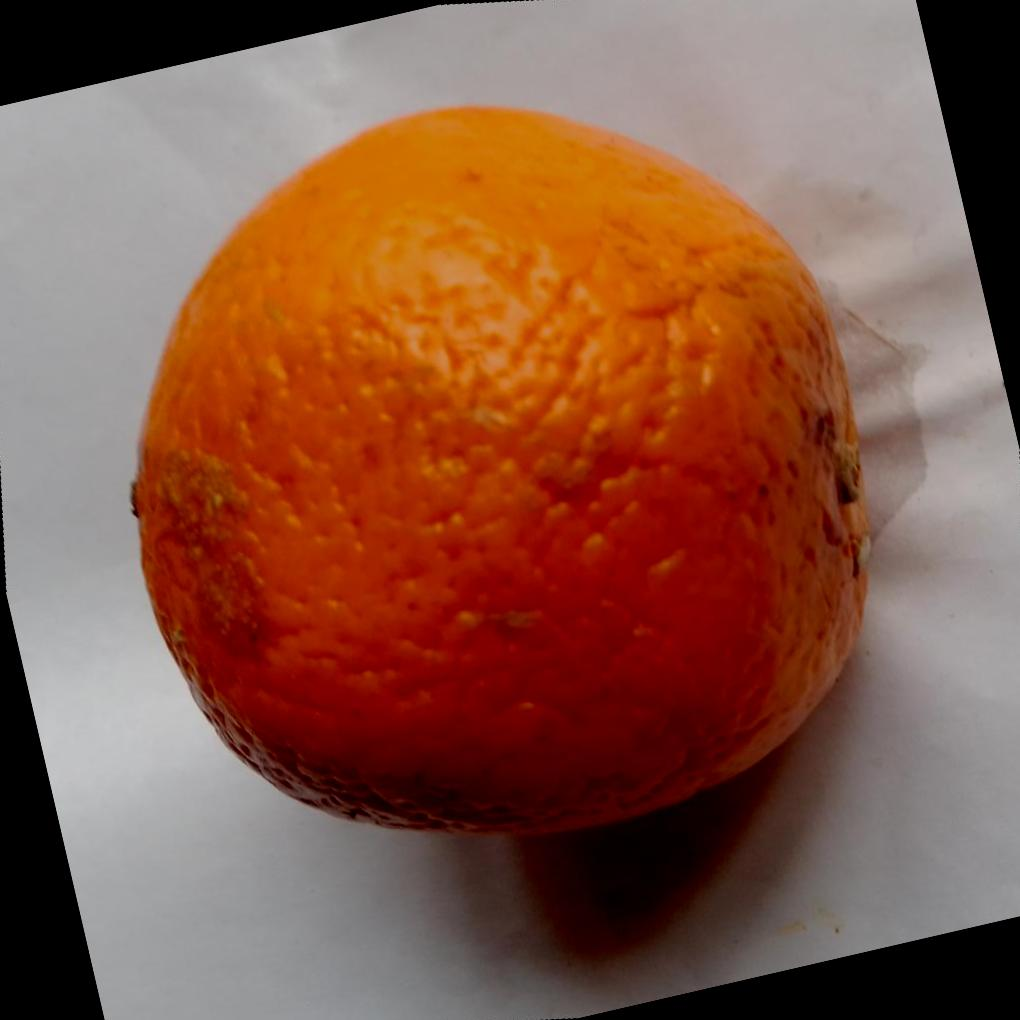FreshOrange: (132, 100, 877, 838)
